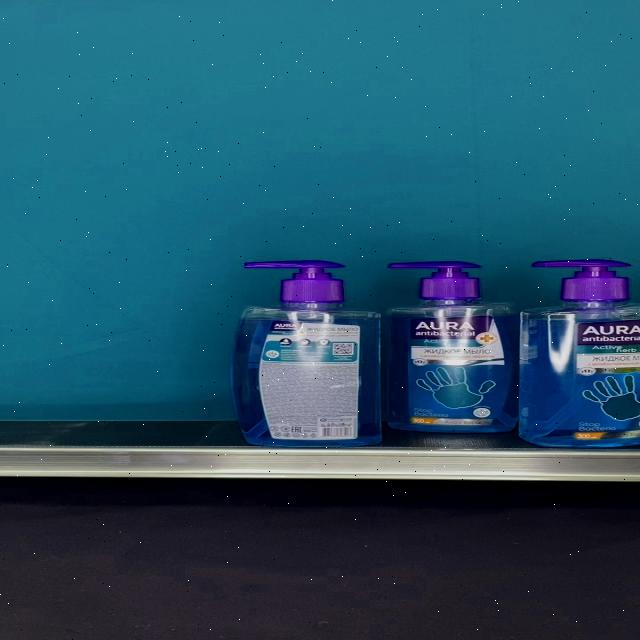Bottle: (232, 260, 382, 446), (387, 261, 521, 432), (519, 259, 640, 447)
Cap: (242, 260, 346, 302), (532, 259, 631, 301), (387, 261, 481, 301)
